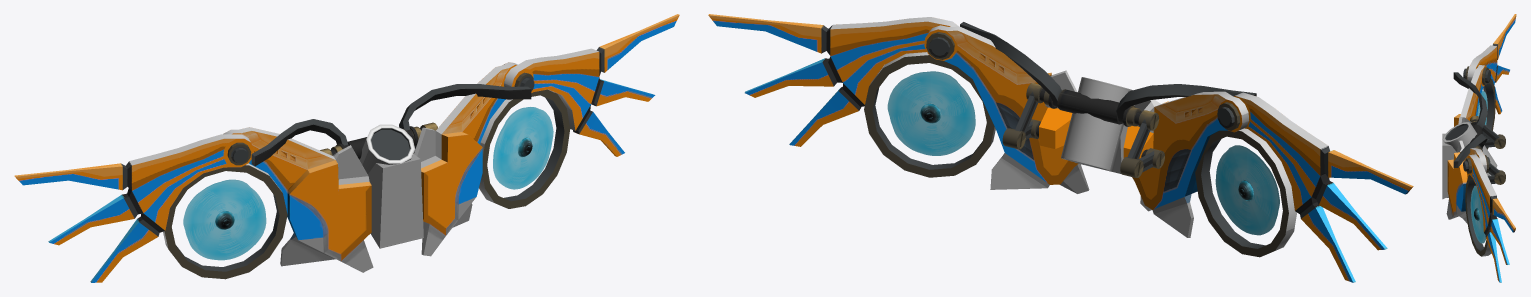
File: Wings_2.fbx
3 renders of one model, left to right at view 1: azimuth 30°, elevation 25°; view 2: azimuth 150°, elevation 25°; view 3: azimuth 270°, elevation 25°, orthographic. The views are drawn at different scales.
Visible parts, largest first — view 1: pCylinder1; view 2: pCylinder1; view 3: pCylinder1.
Boxes of the visible parts, left/top/right/bottom form: pCylinder1: left=14, top=14, right=679, bottom=282; pCylinder1: left=708, top=14, right=1413, bottom=282; pCylinder1: left=1442, top=14, right=1516, bottom=282.
Size of the model in its own units: 27.15 by 5.86 by 3.97.
